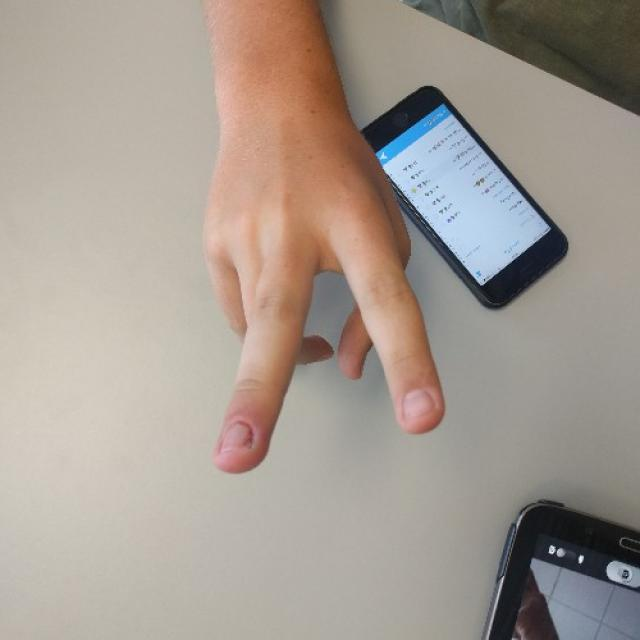scissors: (210, 138, 450, 475)
